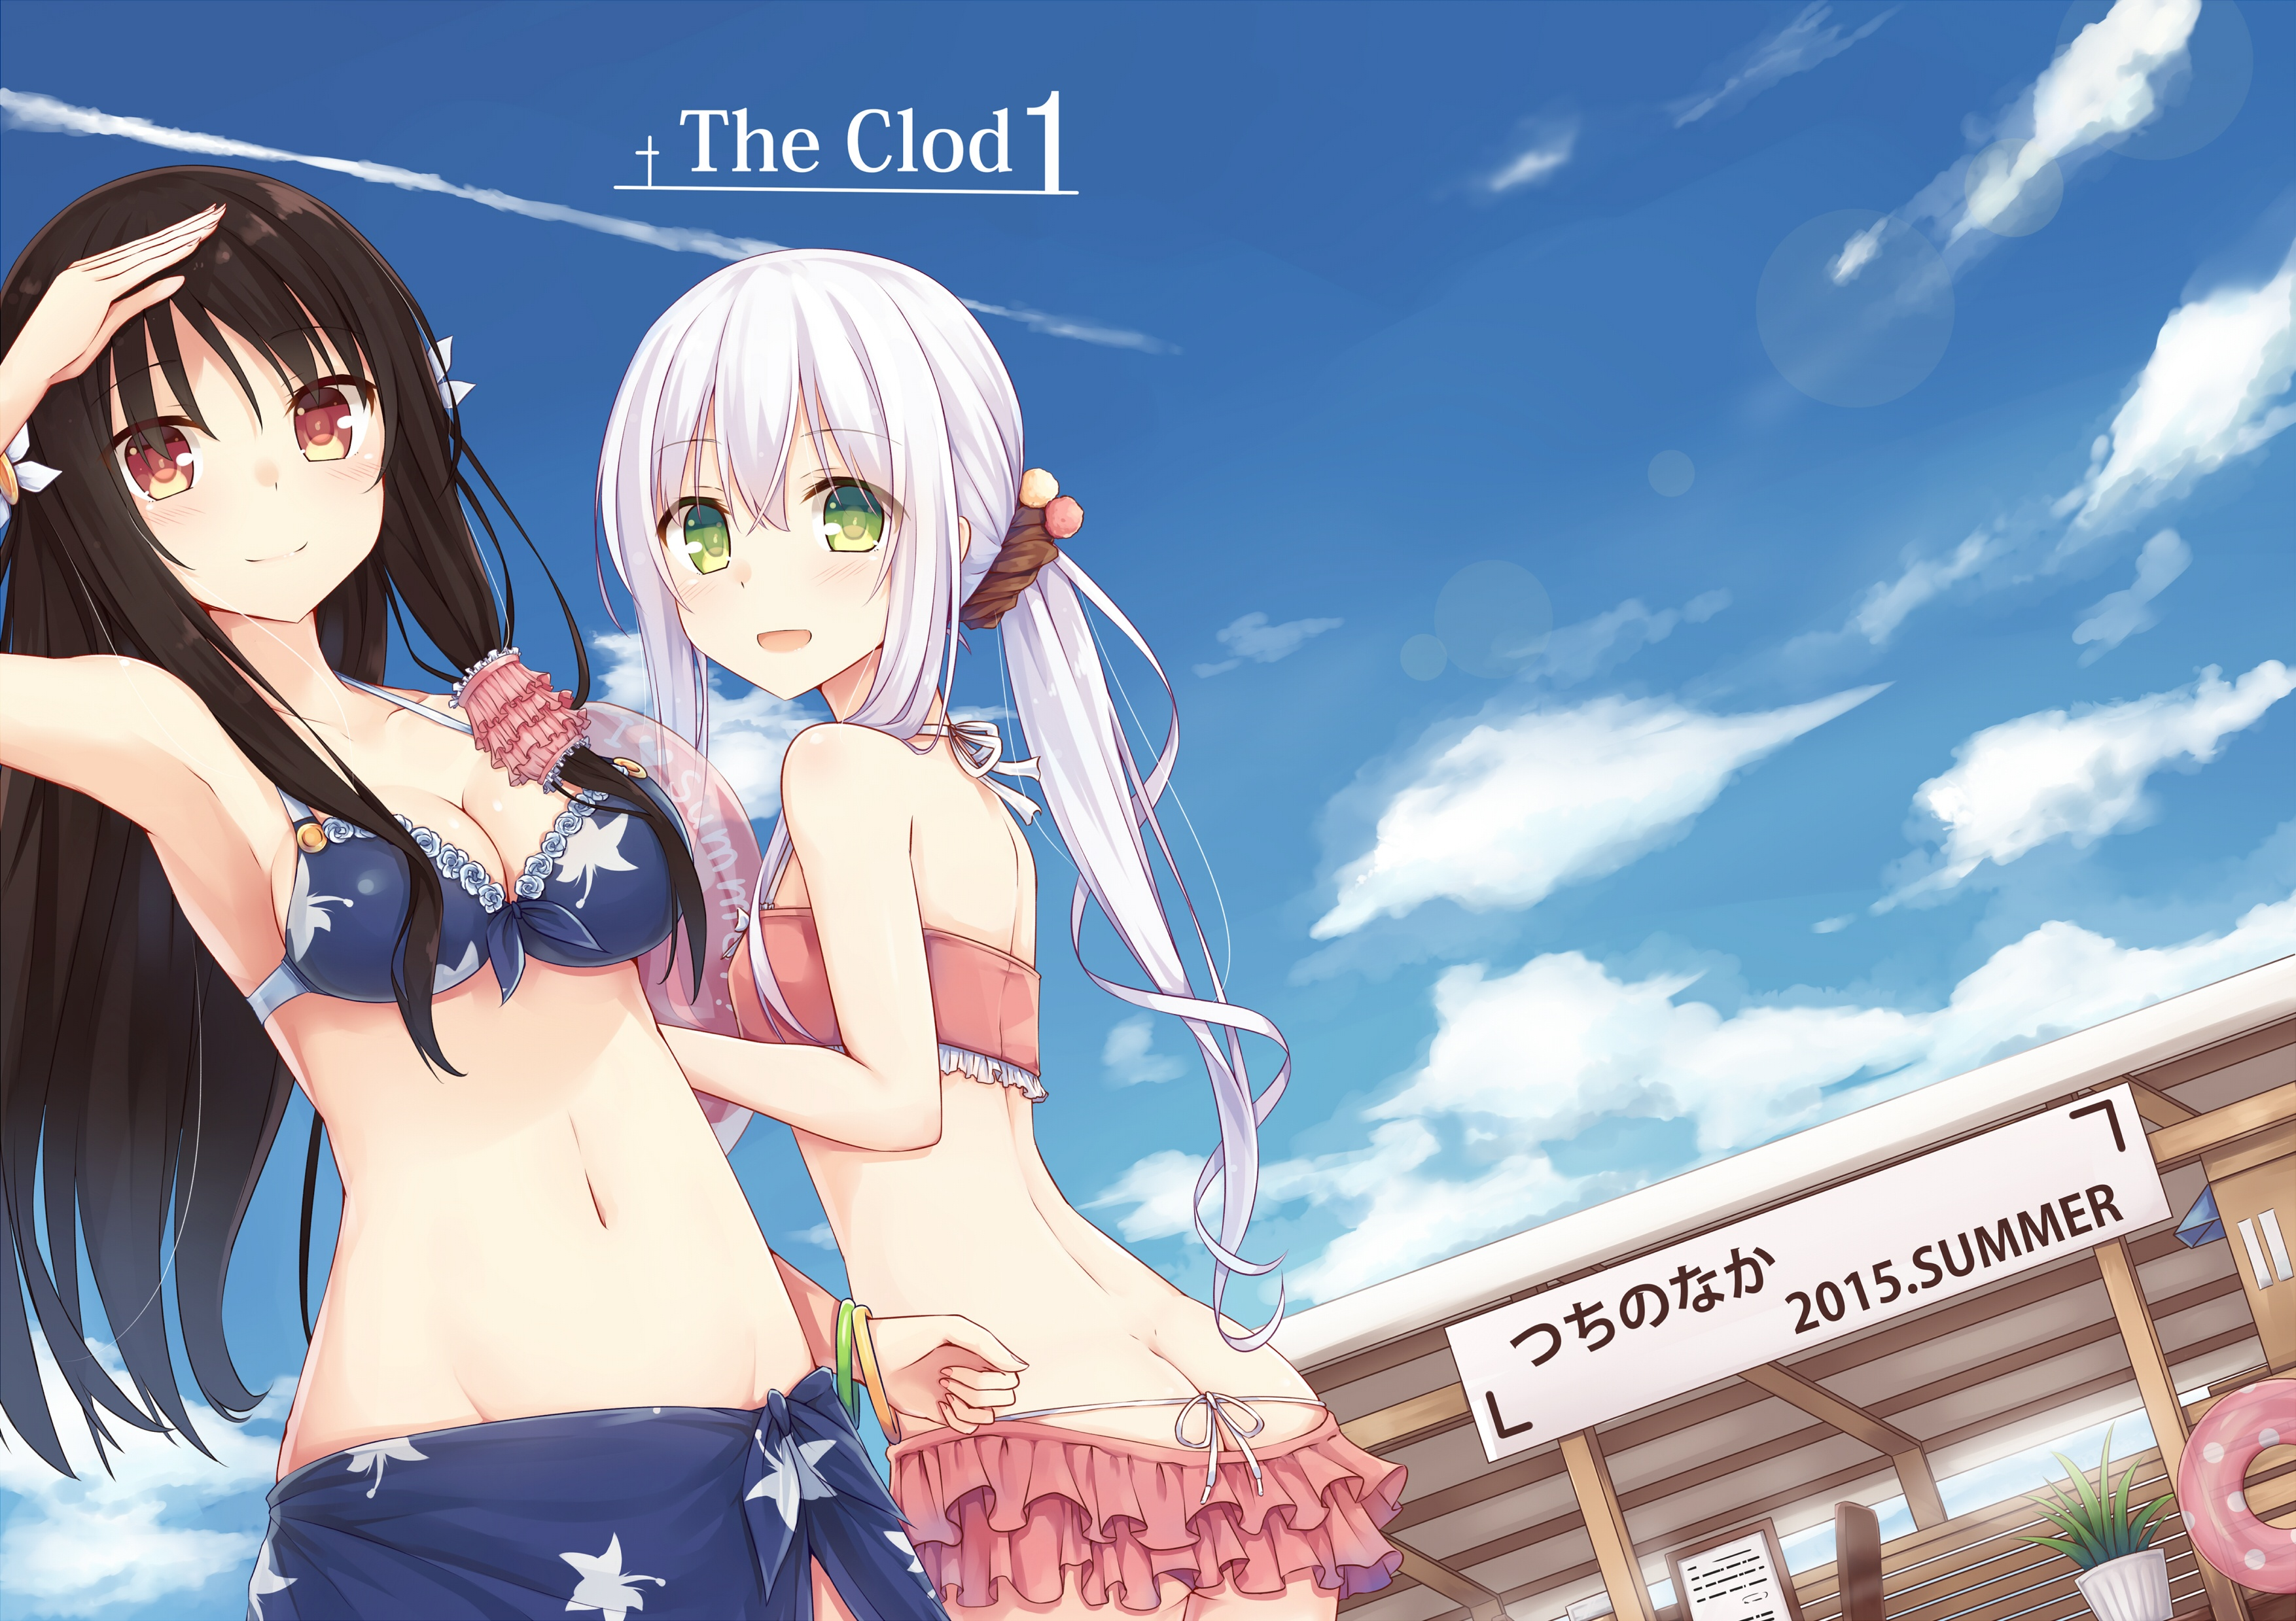纸片人正脸: (582, 226, 1032, 725), (7, 147, 440, 645)
